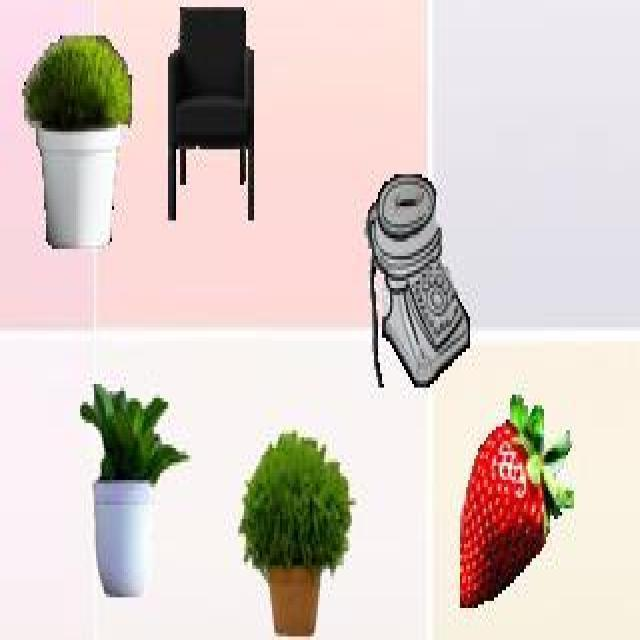Other Objects: (238, 430, 356, 638), (22, 32, 132, 252), (80, 382, 190, 598)
